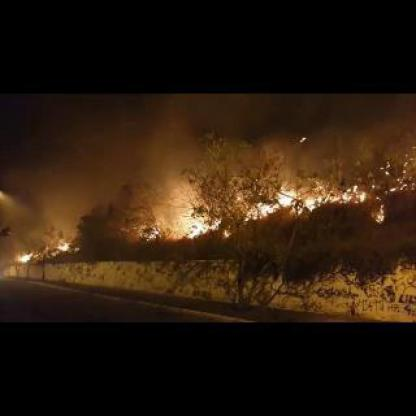fire: (242, 184, 364, 222), (180, 210, 218, 236), (144, 222, 160, 240), (373, 206, 387, 222), (17, 252, 34, 263), (57, 243, 69, 252)
